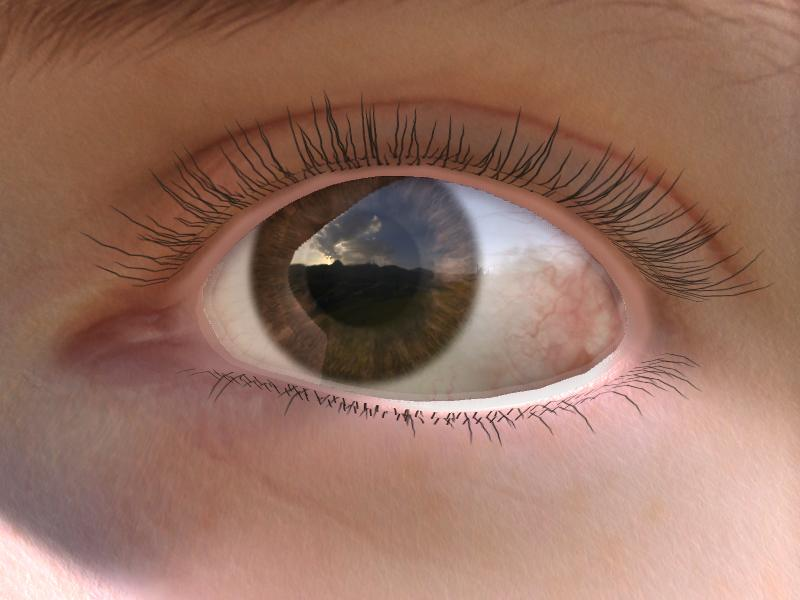eye: (251, 175, 478, 386)
